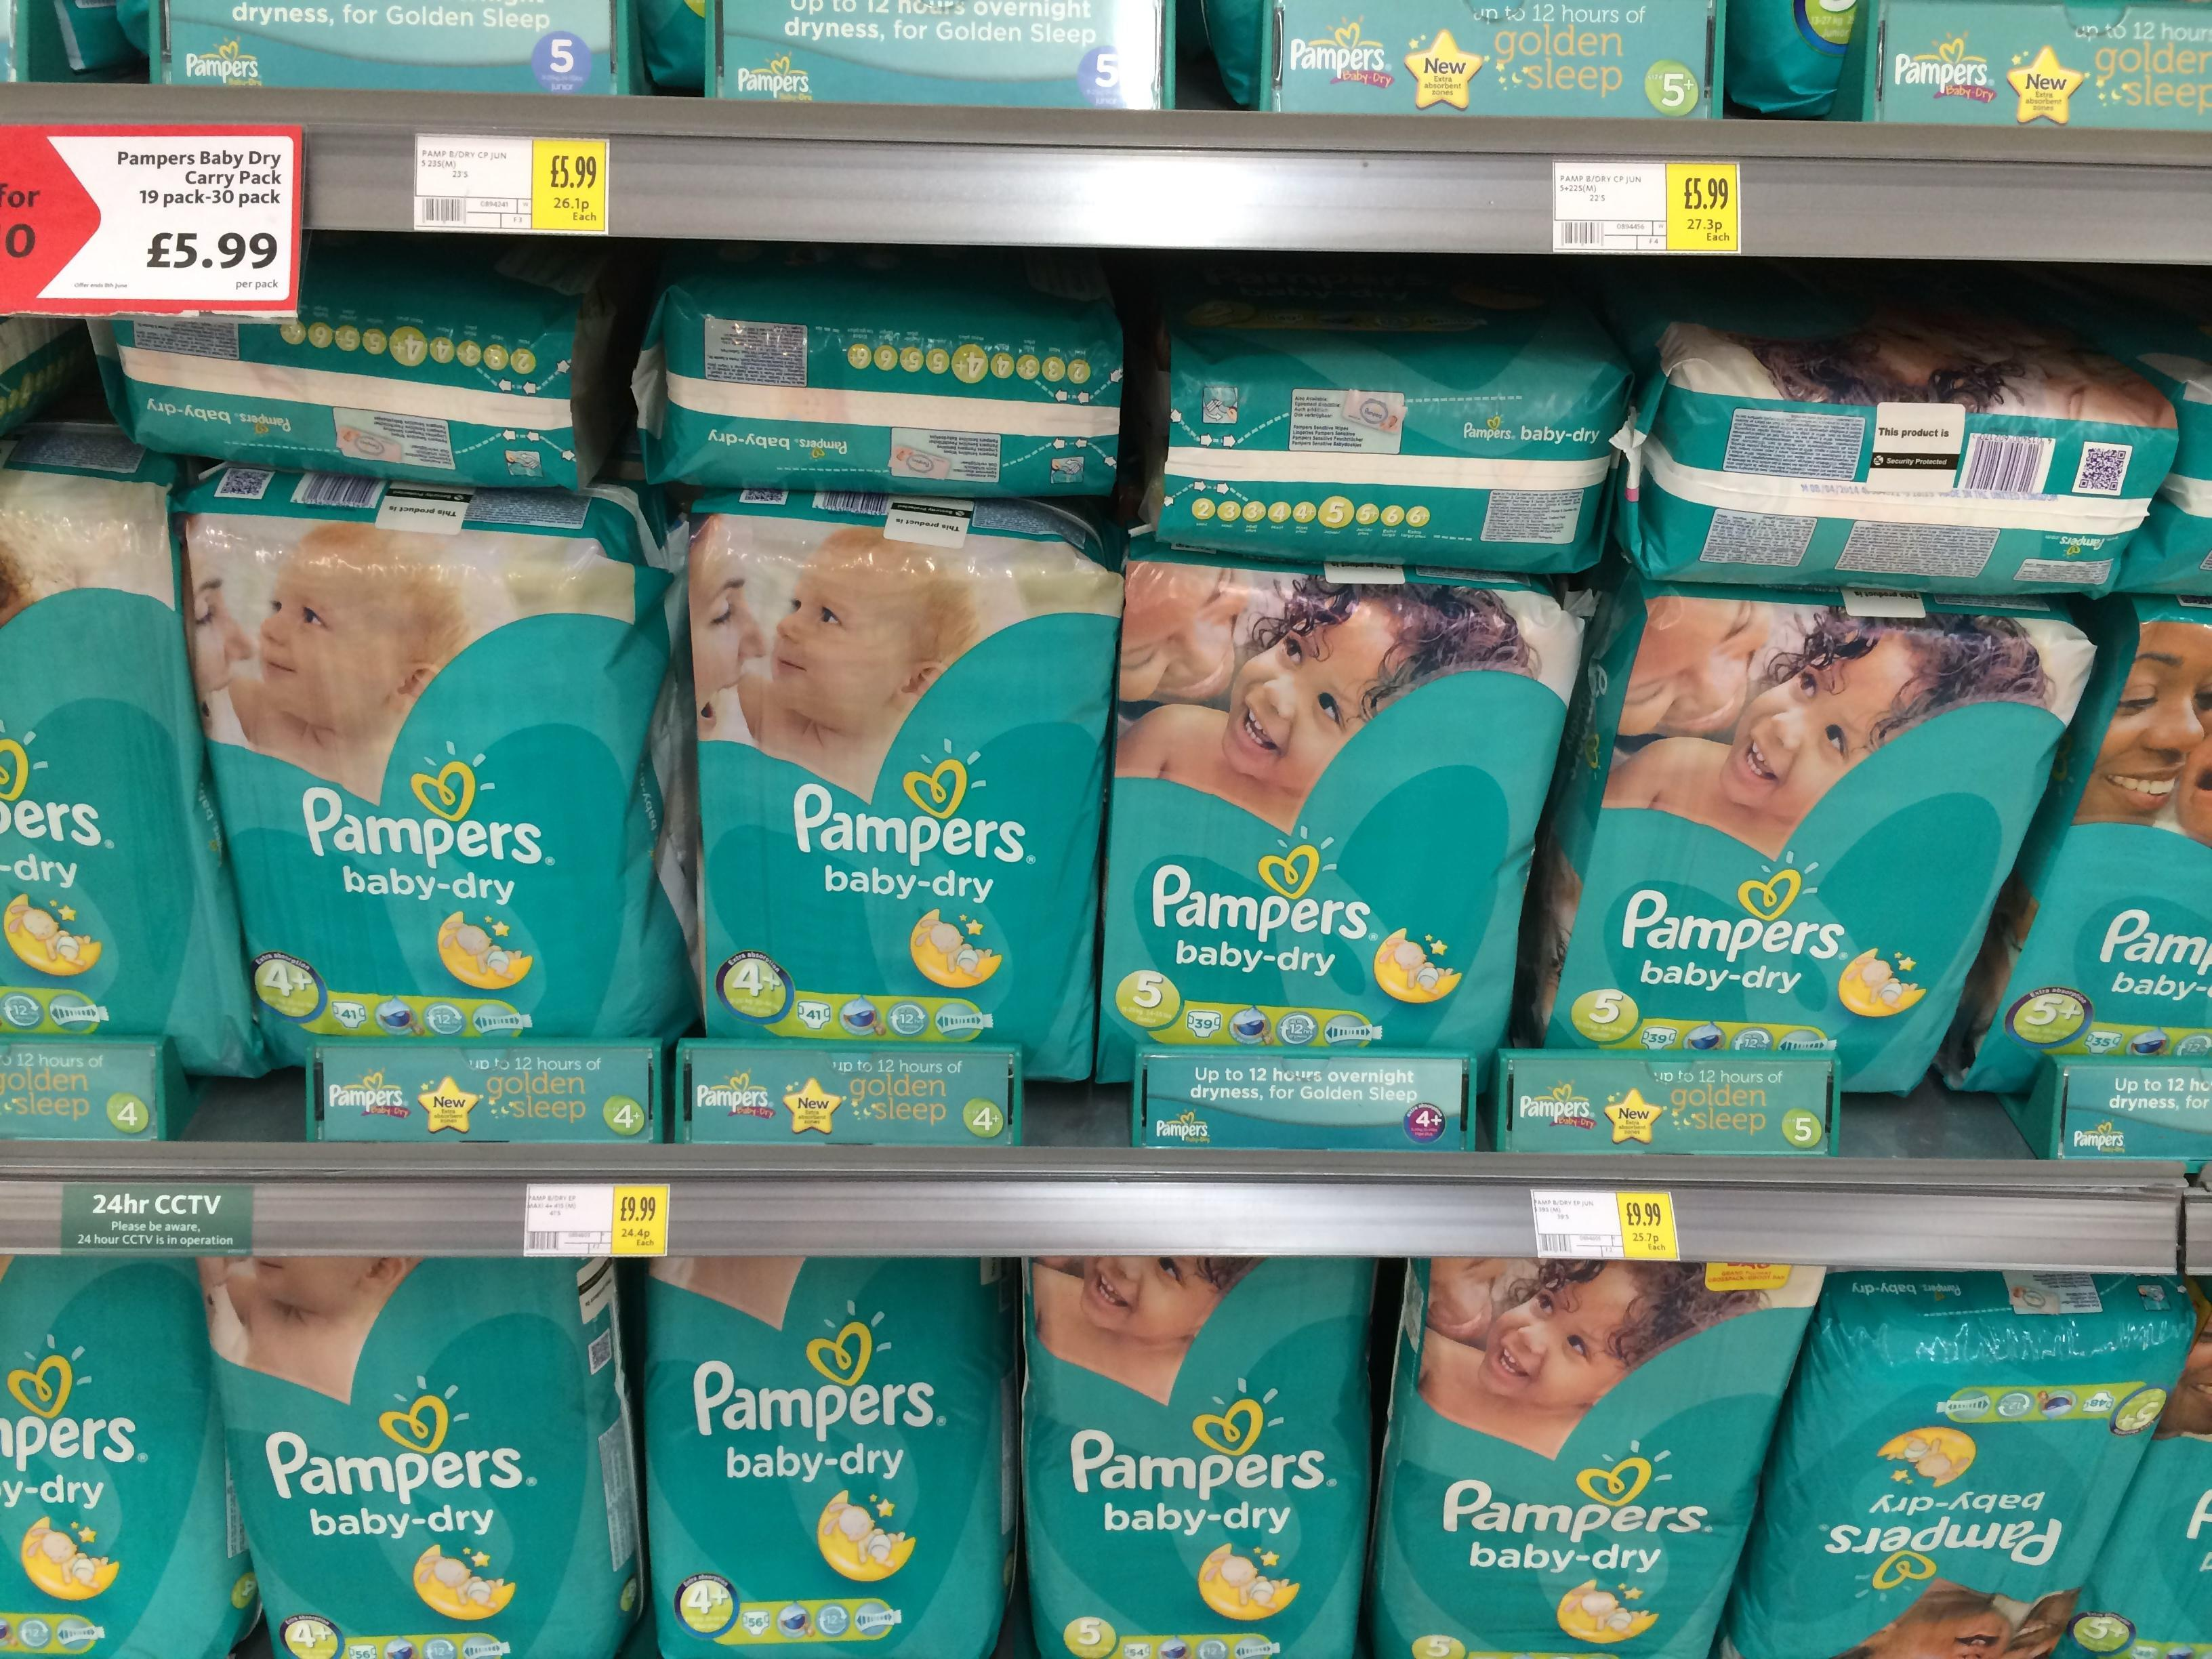pampers: (183, 465, 695, 1063), (1524, 575, 2094, 1091), (1099, 551, 1581, 1080), (691, 490, 1122, 1077), (1609, 267, 2175, 593), (1719, 1272, 2193, 1659), (1369, 1258, 1822, 1659), (200, 1256, 643, 1659), (0, 423, 260, 1073), (643, 1256, 1017, 1659), (1158, 265, 1625, 572), (1022, 1256, 1374, 1659), (96, 235, 634, 488), (1946, 596, 2212, 1093), (634, 244, 1122, 497), (0, 1255, 256, 1659), (2045, 268, 2212, 594), (2062, 1328, 2212, 1659), (0, 314, 91, 434)
